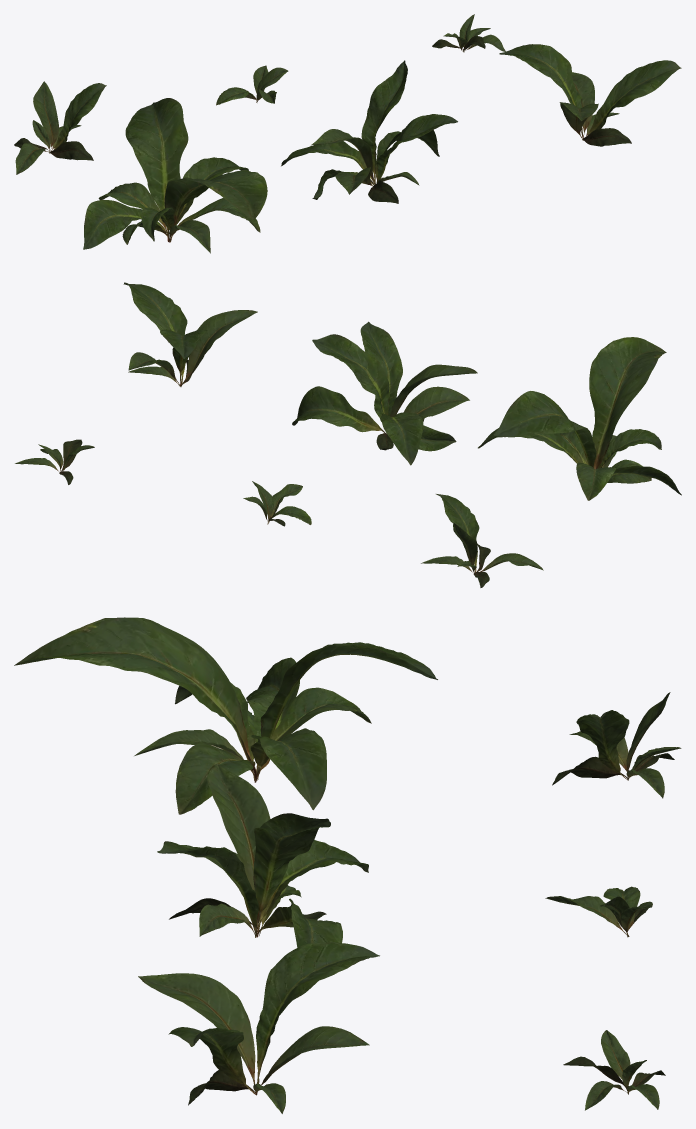
The model's file is anthurium_botany_01.glb.
3 views of the same model, one above another, from view 1: azimuth 30°, elevation 25°; view 2: azimuth 150°, elevation 25°; view 3: azimuth 270°, elevation 25° (orthographic). The views are drawn at different scales.
Parts seen in each view (by area): view 1: anthurium_botany_01_a; view 2: anthurium_botany_01_a; view 3: anthurium_botany_01_a.
Boxes of the visible parts, left/top/right/bottom form: anthurium_botany_01_a: left=14, top=14, right=681, bottom=253; anthurium_botany_01_a: left=15, top=282, right=681, bottom=587; anthurium_botany_01_a: left=14, top=617, right=681, bottom=1113.
Size of the model in its own units: 2.8 by 0.4994 by 1.8.
Materials: 1 (1 with a texture image).
